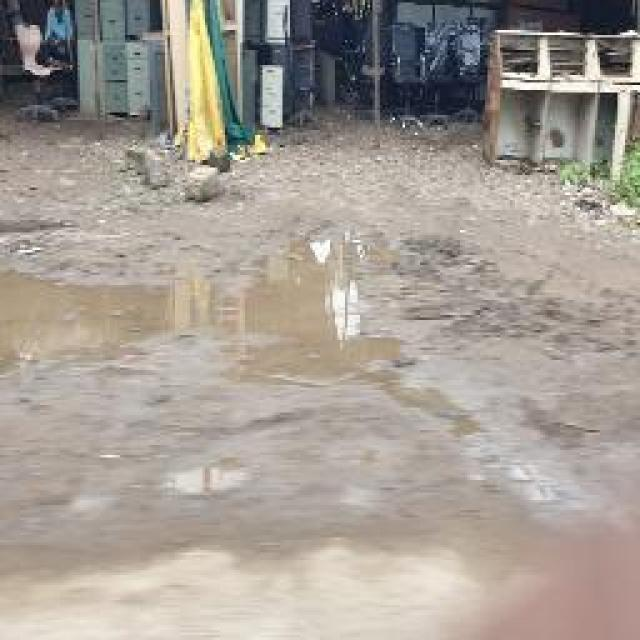puddle: (236, 225, 420, 396)
